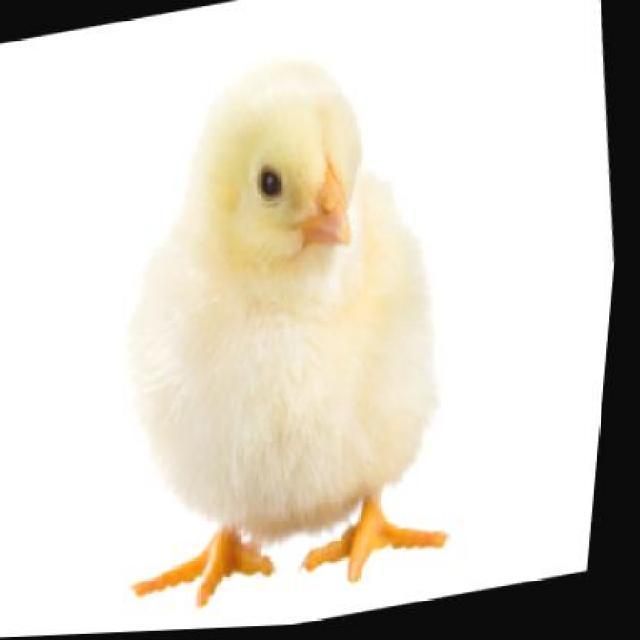poussin: (125, 56, 453, 605)
